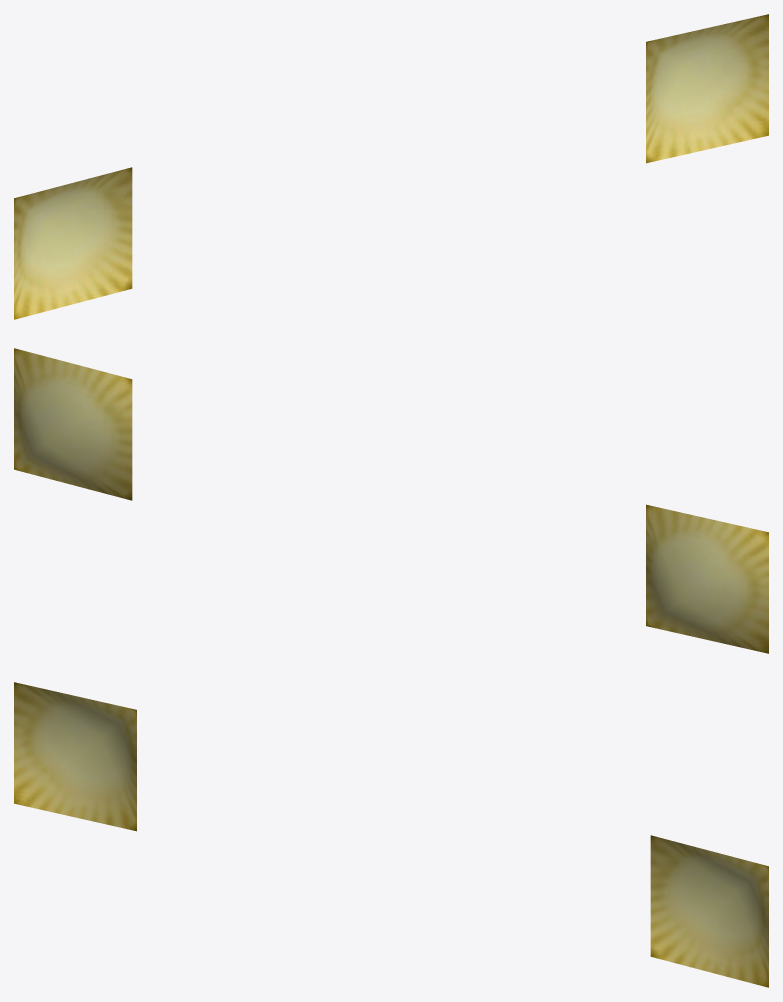
The model's file is awing_engine_s01_on_l2.fbx.
3 renders of one model, top to bottom at view 1: azimuth 30°, elevation 25°; view 2: azimuth 150°, elevation 25°; view 3: azimuth 330°, elevation 25°, orthographic.
Visible parts, largest first — view 1: mesh_node; view 2: mesh_node; view 3: mesh_node.
Part boxes in pixels (x1=…): mesh_node: x1=14, y1=14, x2=768, y2=319; mesh_node: x1=14, y1=348, x2=768, y2=653; mesh_node: x1=14, y1=682, x2=768, y2=987.
Size of the model in its own units: 5.74 by 0.8822 by 0.3639.
